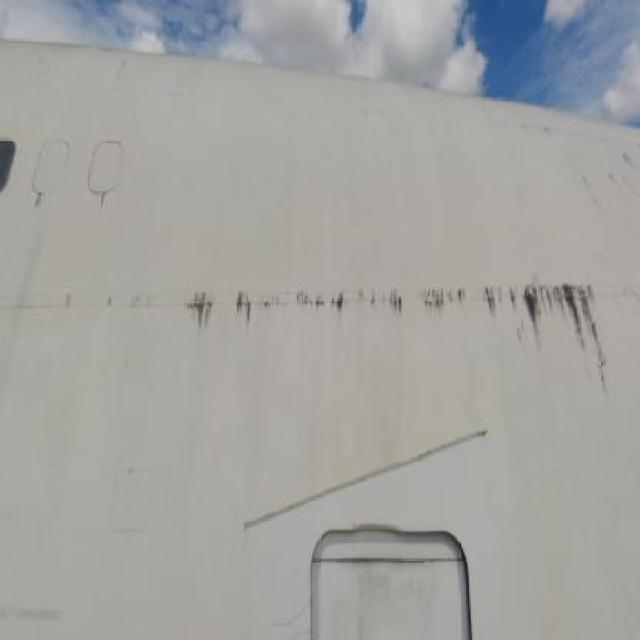Scartch: (76, 256, 638, 384), (231, 417, 509, 526)
